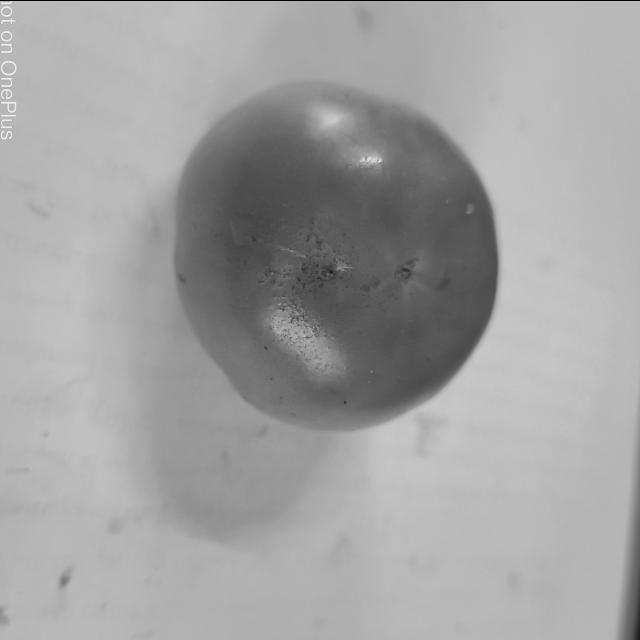Bacterial_Spot: (392, 252, 422, 282), (325, 255, 345, 277)
